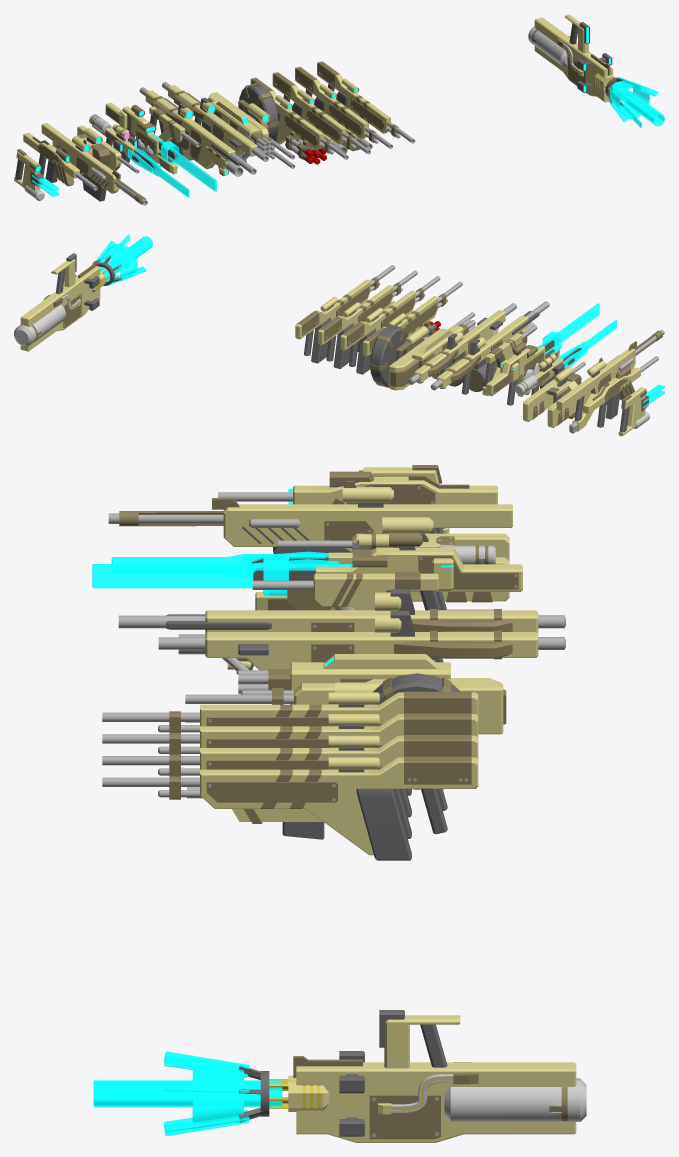
Rendered from Weapons Batch 2.fbx.
3 renders of one model, top to bottom at view 1: azimuth 30°, elevation 25°; view 2: azimuth 150°, elevation 25°; view 3: azimuth 270°, elevation 25°, orthographic. The views are drawn at different scales.
Parts seen in each view (by area): view 1: pCube345, pCube246 (×4), pCube295, pCube272, pCube281, polySurface7, polySurface6, polySurface5, polySurface3, pCylinder209, pCube314, pCylinder291 (+15 smaller); view 2: pCube345, pCube295, pCube246 (×4), polySurface4 (×3), pCylinder209, pCube281, pCube272, pCylinder291, pCube314, pCylinder288, polySurface3, polySurface5 (+18 smaller); view 3: pCube345, pCube295, polySurface5, pCube247 (×4), pCube246 (×4), pCube281, pCylinder291, pCube318, pCube272, pCylinder289, pCube274 (×2), pCube314 (+20 smaller).
Part boxes in pixels (box(x1,y1,x2,y2)): pCube345: box(534, 17, 612, 102); pCube246 (×4): box(284, 98, 384, 145); pCube295: box(41, 123, 119, 193); pCube272: box(145, 90, 235, 169); pCube281: box(168, 85, 257, 156); polySurface7: box(250, 77, 324, 149); polySurface6: box(272, 72, 346, 144); polySurface5: box(317, 61, 390, 133); polySurface3: box(295, 66, 368, 138); pCylinder209: box(239, 84, 278, 139); pCube314: box(105, 102, 177, 174); pCylinder291: box(528, 26, 567, 67); pCube345: box(20, 266, 100, 351); pCube295: box(556, 348, 635, 431); pCube246 (×4): box(336, 286, 437, 333); polySurface4 (×3): box(311, 317, 376, 374); pCylinder209: box(370, 326, 408, 386); pCube281: box(414, 310, 505, 382); pCube272: box(437, 315, 528, 388); pCylinder291: box(14, 304, 65, 346); pCube314: box(486, 345, 559, 396); pCylinder288: box(99, 244, 137, 283); polySurface3: box(318, 285, 393, 344); polySurface5: box(295, 279, 370, 339); pCube345: box(296, 1062, 576, 1142); pCube295: box(223, 504, 512, 551); polySurface5: box(200, 757, 478, 855); pCube247 (×4): box(404, 691, 471, 784); pCube246 (×4): box(206, 717, 337, 802); pCube281: box(205, 632, 538, 670); pCylinder291: box(444, 1078, 586, 1121); pCube318: box(92, 564, 352, 588); pCube272: box(205, 610, 538, 633); pCylinder289: box(93, 1080, 282, 1107); pCube274 (×2): box(394, 609, 512, 658); pCube314: box(255, 547, 522, 610).
Bounding box in the file's own units: 51.98 × 7.49 × 19.32.
